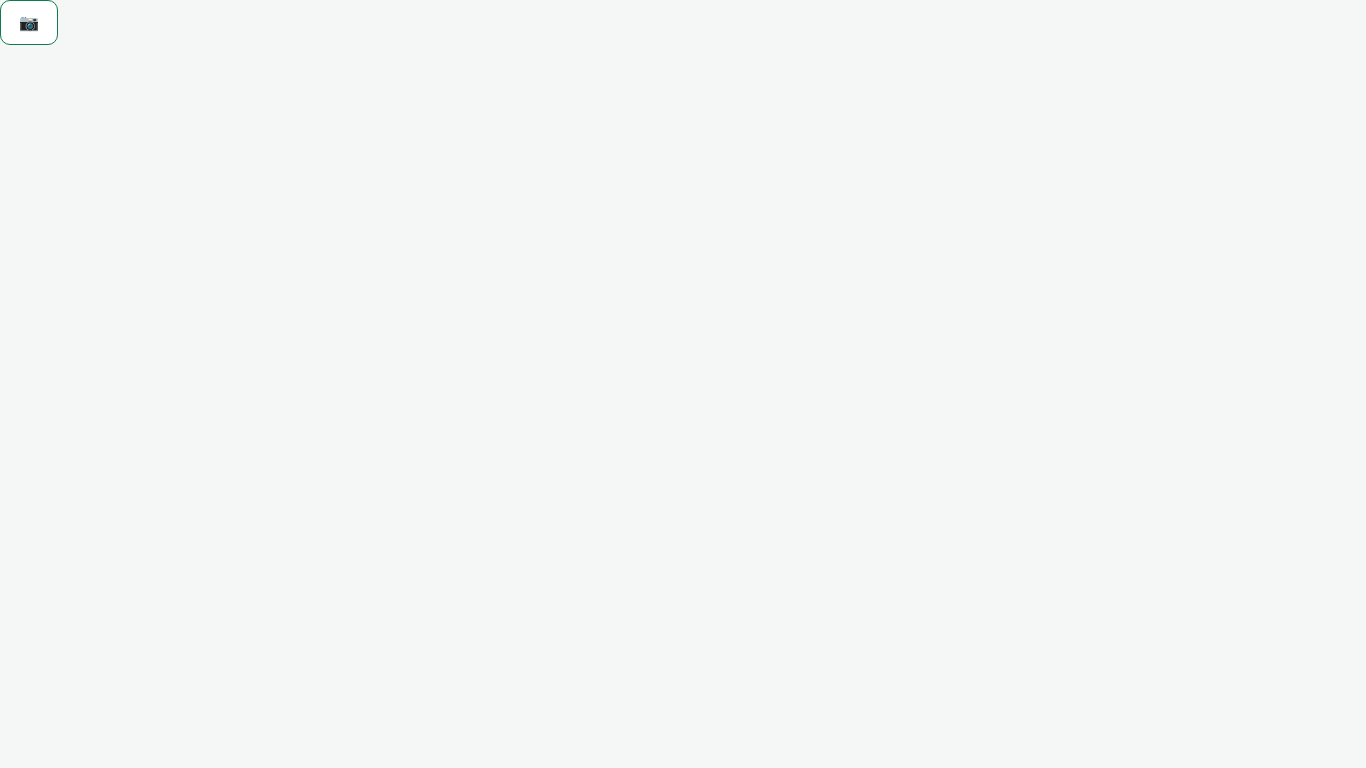
Test: ItemTagCapture › offers one compact photo action and fills the shared invoice editor without a preview or second form
Later steps or results of the test are not shown.
Check: the button "Take a photo" is not shown
Click the button named "Scan tag" at coordinates (29, 23), box [0,0,58,45]
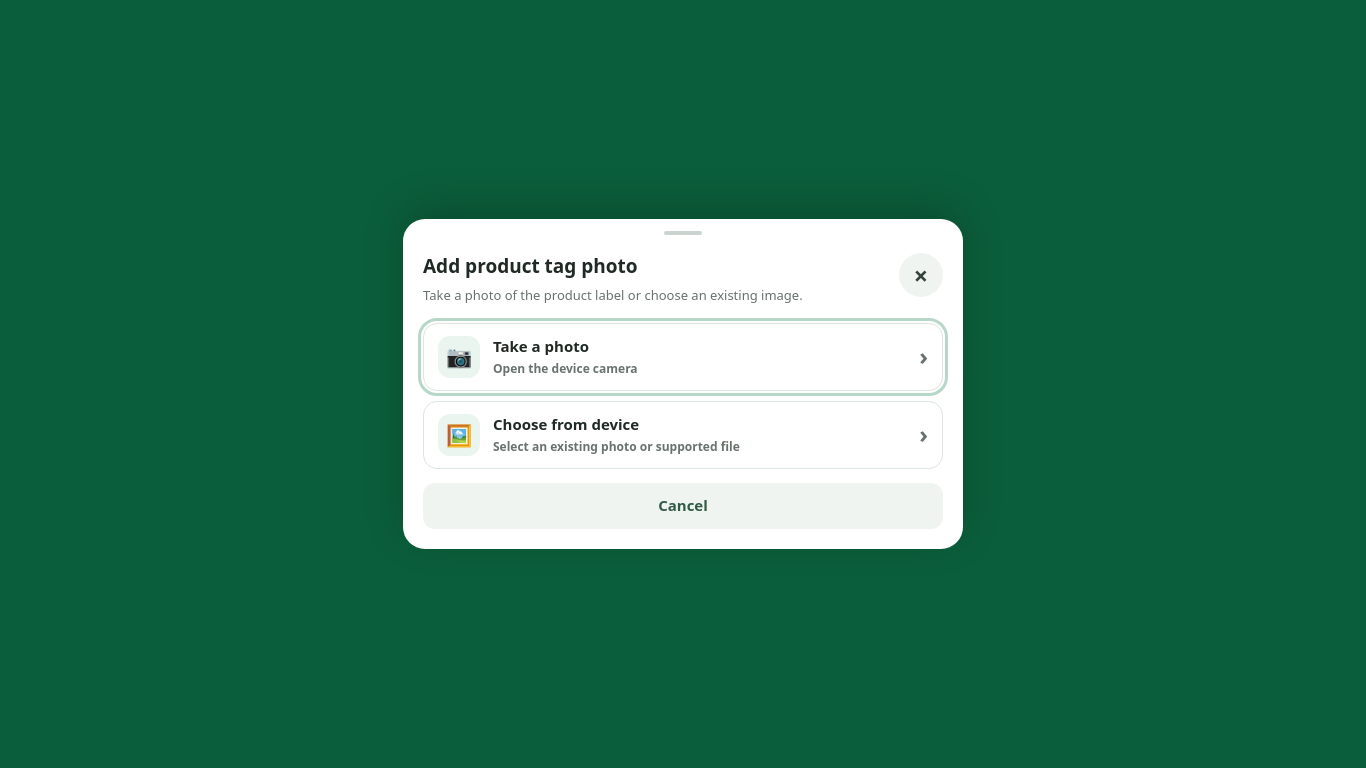
Check: the dialog "Add product tag photo" is shown, box [403,219,963,549]
Check: the button "📷 Take a photo Open the device camera ›" is shown, box [423,322,943,391]
Check: the button "Choose from device" is shown, box [423,401,943,469]
